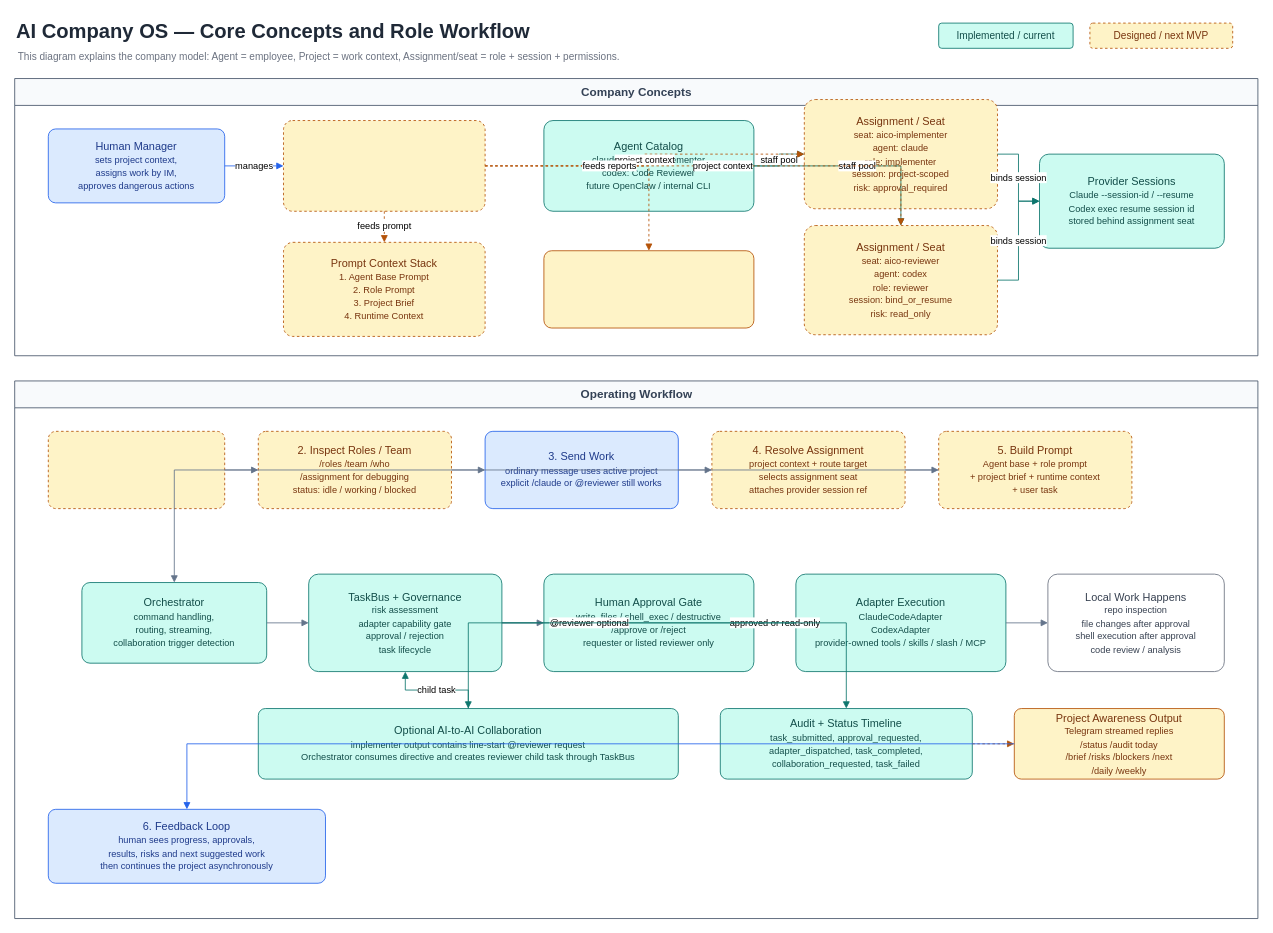
Image size: 1273x933. Some labels were removed from this diagram. The centre of each missing label's shape, as x and y in pixels:
"1. Select Project Context /projects /project aico /use project aico" goes at pixel 136 469.
"Project AI Company OS (aico) repo path + north star STATUS + journal + risks" goes at pixel 384 165.
"Project State Surfaces /brief /risks /blockers /next /daily /weekly" goes at pixel 648 289.
